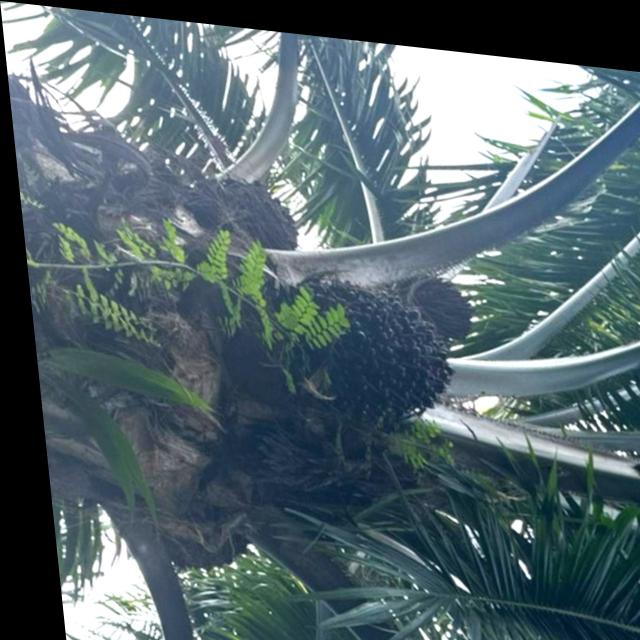almost: (284, 264, 453, 421)
